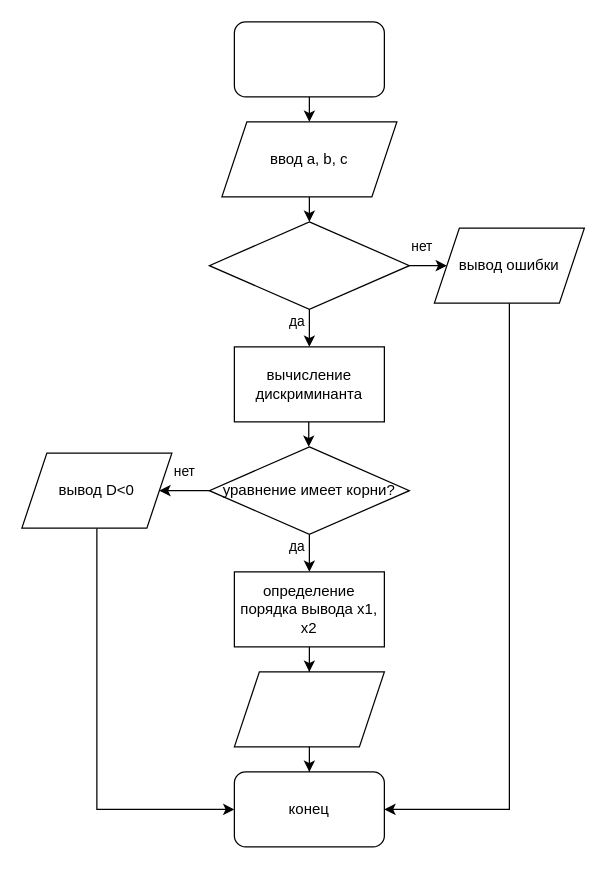
Image size: 606x869. Some labels were removed from this diagram. The box of each missing label's shape, as (x1, y1, x2, y2) in pixels:
вывод x1, x2: (233, 671, 384, 747)
данные корректны?: (208, 221, 409, 309)
начало: (233, 21, 384, 97)
